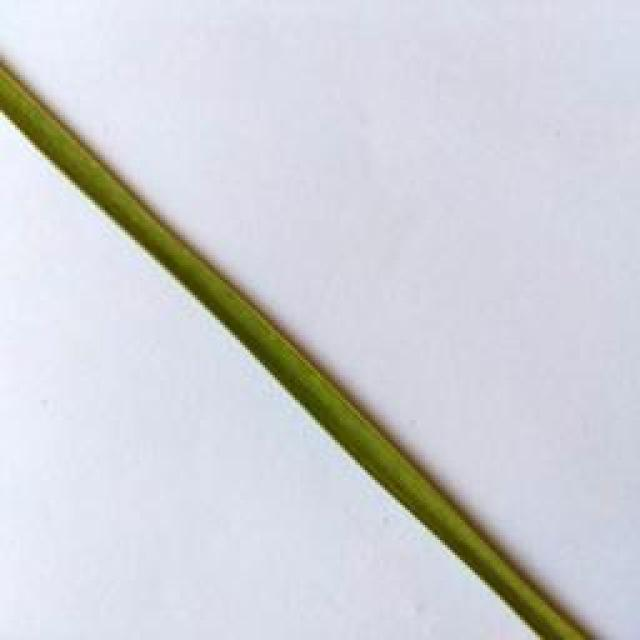Healthy-Plant: (0, 61, 590, 640)
